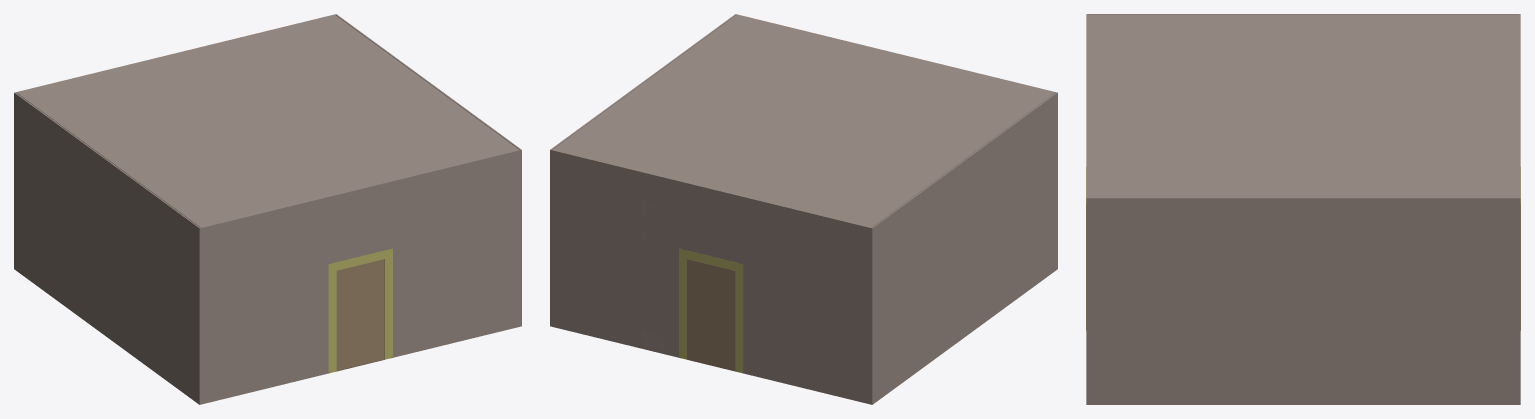
Rendered from Room08_Catacombs.fbx.
3 renders of one model, left to right at view 1: azimuth 30°, elevation 25°; view 2: azimuth 150°, elevation 25°; view 3: azimuth 270°, elevation 25°, orthographic. The views are drawn at different scales.
Parts seen in each view (by area): view 1: Roof, WallSlicedPosZ, WallPosX, DoorPosZ, DoorFramePosZ, WallNegX; view 2: Roof, WallSlicedNegZ, WallPosX, DoorNegZ, DoorFrameNegZ, WallNegX; view 3: WallNegX, Roof, WallPosX.
Part boxes in pixels (bbox=[...]): Roof: bbox=[17, 15, 518, 227]; WallSlicedPosZ: bbox=[199, 149, 521, 404]; WallPosX: bbox=[14, 92, 201, 404]; DoorPosZ: bbox=[336, 259, 384, 370]; DoorFramePosZ: bbox=[328, 248, 392, 372]; WallNegX: bbox=[336, 14, 521, 326]; Roof: bbox=[553, 15, 1054, 227]; WallSlicedNegZ: bbox=[550, 149, 871, 404]; WallPosX: bbox=[870, 92, 1057, 404]; DoorNegZ: bbox=[687, 259, 735, 370]; DoorFrameNegZ: bbox=[679, 248, 743, 372]; WallNegX: bbox=[550, 14, 735, 326]; WallNegX: bbox=[1086, 197, 1520, 404]; Roof: bbox=[1088, 15, 1518, 197]; WallPosX: bbox=[1086, 14, 1520, 14].
Bounding box in the file's own units: 100 × 52.66 × 100.
